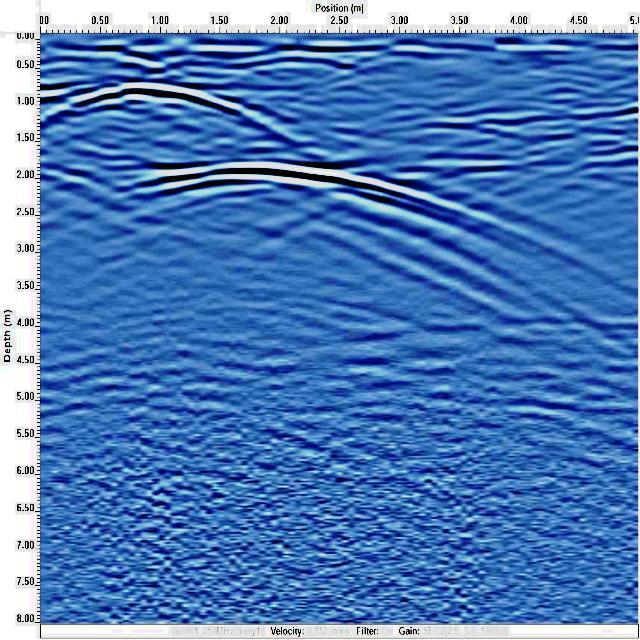hyperbola: (127, 148, 598, 252), (38, 67, 331, 169)
